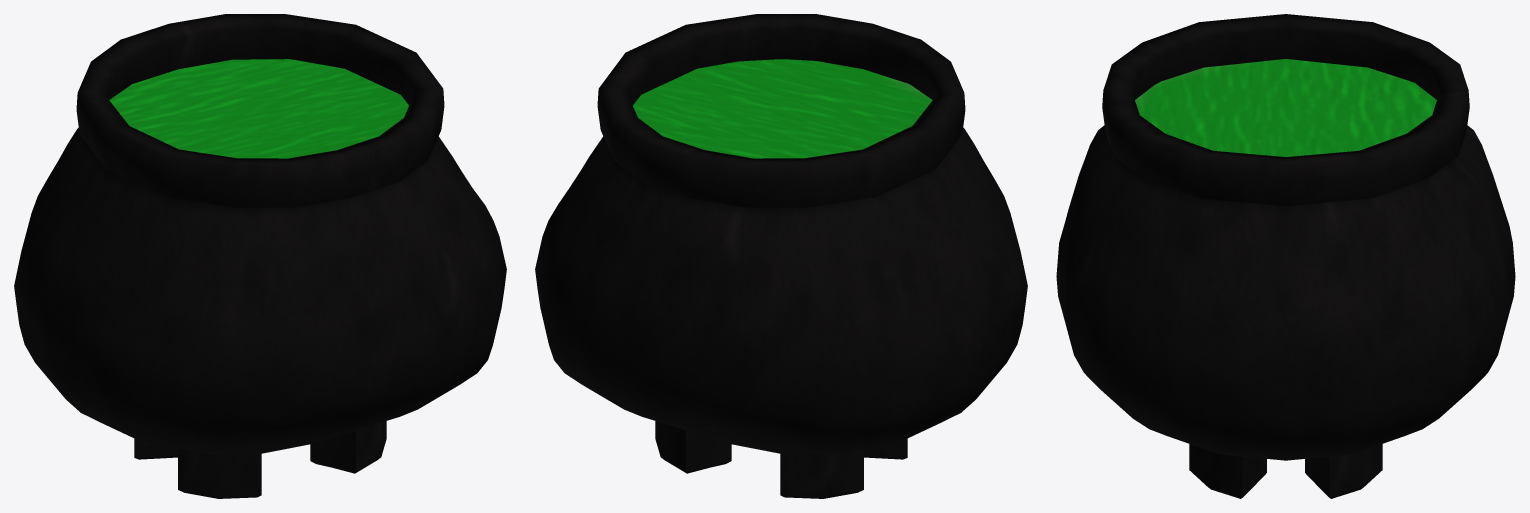
The model's file is Witch's Cauldron 1.fbx.
3 views of the same model, side by side, from view 1: azimuth 30°, elevation 25°; view 2: azimuth 150°, elevation 25°; view 3: azimuth 270°, elevation 25° (orthographic).
Parts seen in each view (by area): view 1: pSphere1, pDisc1; view 2: pSphere1, pDisc1; view 3: pSphere1, pDisc1.
Part boxes in pixels (x1,y1,x2,y2): pSphere1: [14, 14, 506, 498]; pDisc1: [109, 59, 408, 158]; pSphere1: [535, 14, 1027, 498]; pDisc1: [633, 59, 932, 158]; pSphere1: [1056, 14, 1515, 498]; pDisc1: [1135, 59, 1436, 156].
Bounding box in the file's own units: 6.8 × 5.52 × 6.36.
2 materials, 2 textured.
